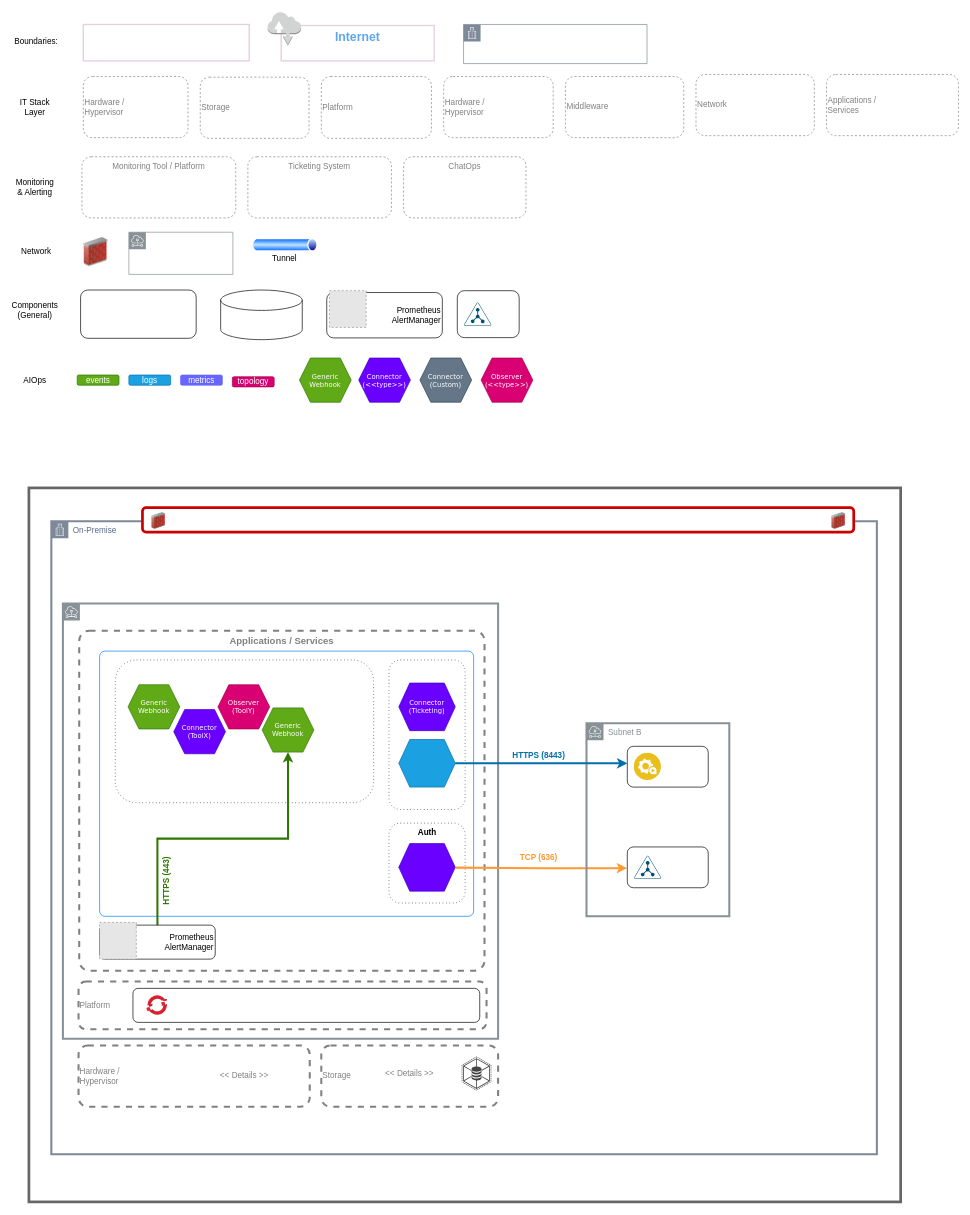
The diagram is 970 pixels wide and 1215 high, and some of its shapes have lost their labels. Grey dashed boxes stand in for pictures. The shapes that lost their labels are listed below. From the top down, each one's box as (x1, y1, x2, y2) in pixels, then its label:
(82, 23, 250, 61): <<entity or boundary, e.g. client name>>
(463, 24, 647, 64): <<data center or cloud provider>>
(128, 232, 233, 274): Subnet (<<CIDR>>)
(80, 289, 196, 338): Container Registry Owner: ??? Type: ???
(220, 289, 302, 340): Repository Type: ???
(457, 290, 519, 338): LDAP
(115, 659, 374, 803): Data Feeds
(388, 659, 465, 810): Integrations
(99, 650, 474, 916): Cloud Pak for AIOps v4.6
(398, 739, 455, 787): Runbook Automation
(627, 746, 708, 787): Automation Tool / Platform
(62, 602, 499, 1039): Subnet A
(27, 486, 902, 1203): Client Environment
(398, 843, 455, 891): Connector (LDAP)
(627, 846, 708, 888): MS Active Directory
(132, 988, 480, 1022): OpenShift v4.14 (Installation Method: UPI, Online)
